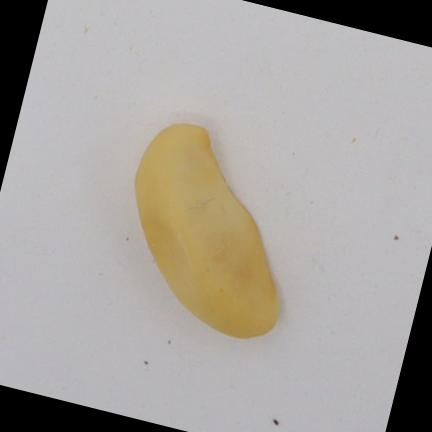parchment: (134, 123, 279, 338)
